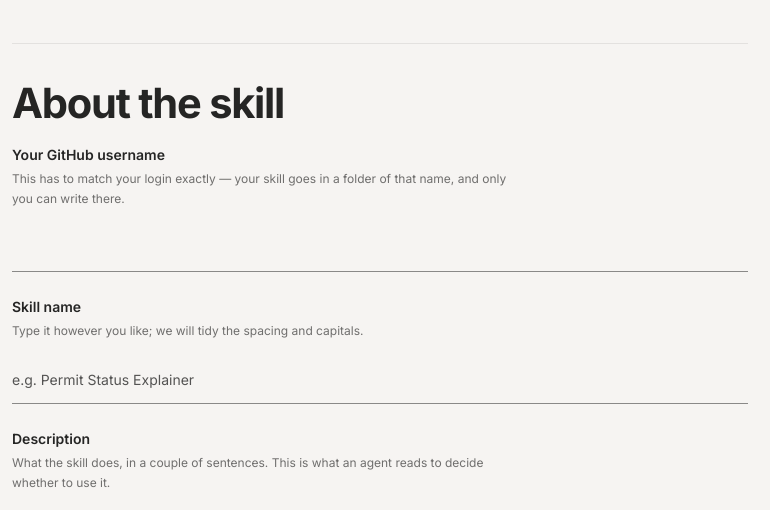
Submit — the reserved namespace › says what actually governs that folder
(page scrolled)
In the field labelled "Your GitHub username": (380, 248) [12, 225, 748, 272], type "civic-skills"
(page scrolled)
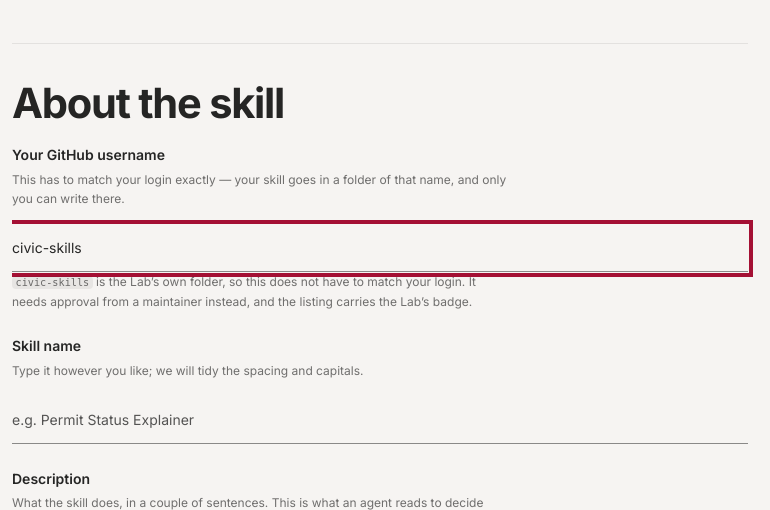
Expected: the element with test id "reserved-namespace" shows "approval", [12, 274, 476, 309]
